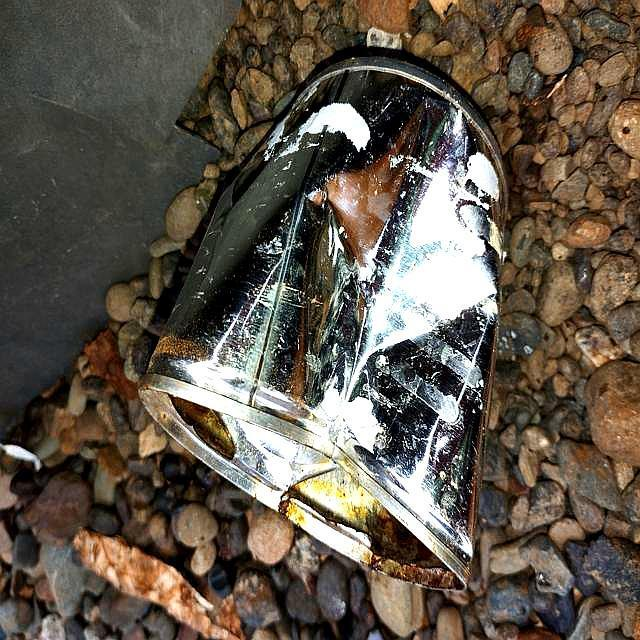Non-biodegradable: (136, 44, 511, 593)
